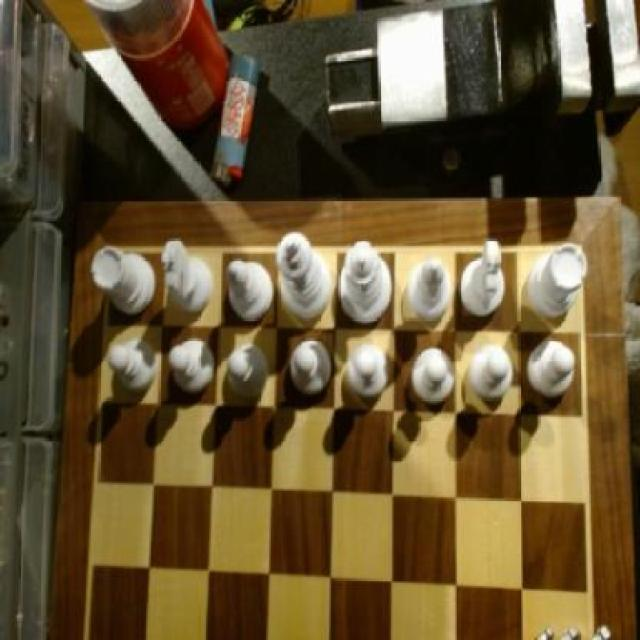black-rook: (225, 252, 276, 323), (409, 259, 454, 326)
white-bishop: (277, 229, 337, 324)
white-king: (458, 238, 516, 322), (161, 235, 217, 317)
white-knight: (108, 334, 162, 405), (528, 336, 580, 408), (466, 341, 517, 407), (288, 335, 337, 403), (222, 342, 273, 404), (170, 332, 218, 397), (346, 338, 393, 404), (414, 343, 460, 404)
white-pawn: (337, 240, 398, 327)
white-queen: (524, 241, 594, 334), (92, 238, 160, 322)
